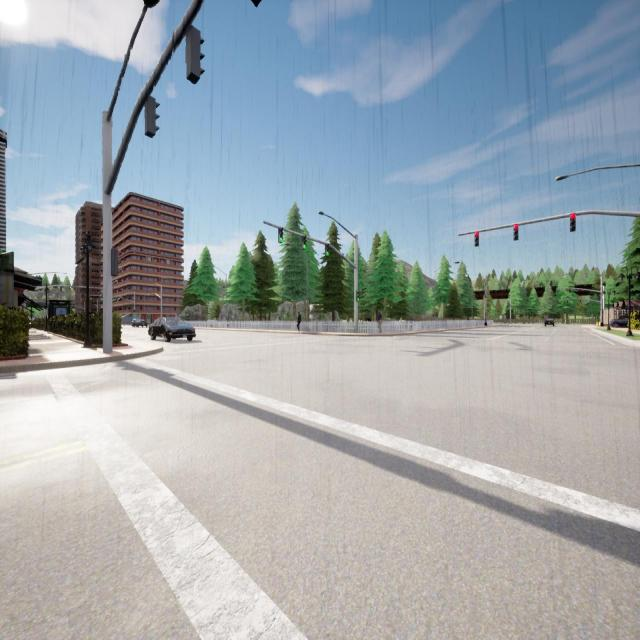Pedestrian: (378, 310, 382, 334), (297, 311, 301, 333)
Traffic_Signs: (500, 315, 502, 319)
Vehicle: (149, 317, 195, 342), (611, 320, 627, 328), (132, 320, 145, 328), (545, 319, 554, 326)
traffic_light: (187, 26, 204, 84), (145, 96, 160, 138), (111, 249, 118, 275), (570, 214, 576, 231), (513, 224, 518, 239), (278, 228, 283, 243), (474, 232, 479, 246), (325, 245, 329, 256), (302, 236, 305, 250), (356, 290, 359, 302), (90, 296, 92, 301), (101, 296, 103, 300), (114, 298, 116, 301), (569, 288, 571, 290), (556, 299, 558, 301), (567, 299, 568, 303), (580, 298, 581, 302)
